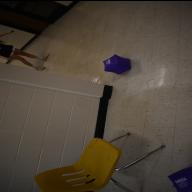cube: (167, 165, 192, 192), (103, 53, 131, 74)
